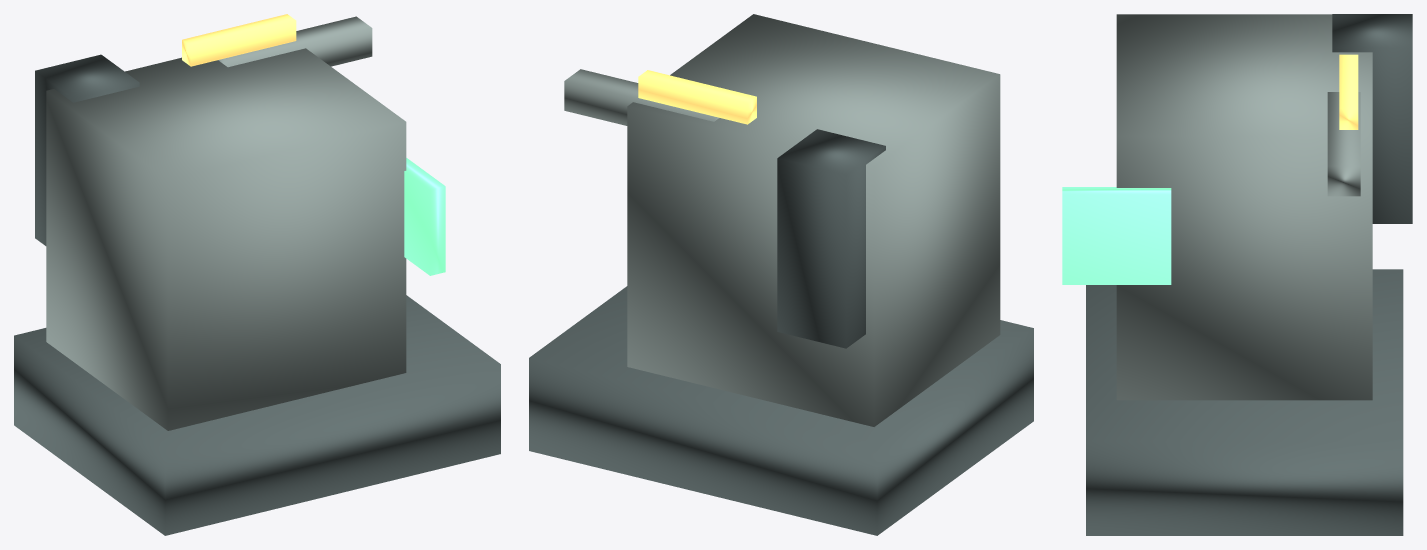
Rendered from spin-habitat-service-bay-lod1.glb.
The picture shows the model from 3 angles, left to right: view 1: azimuth 30°, elevation 25°; view 2: azimuth 150°, elevation 25°; view 3: azimuth 270°, elevation 25°; orthographic projection. The views are drawn at different scales.
Parts seen in each view (by area): view 1: spin-habitat-service-bay-shell, spin-habitat-service-bay-base, spin-habitat-service-bay-canister, spin-habitat-service-bay-screen, spin-habitat-service-bay-utility-arm, spin-habitat-service-bay-marker; view 2: spin-habitat-service-bay-shell, spin-habitat-service-bay-base, spin-habitat-service-bay-canister, spin-habitat-service-bay-marker, spin-habitat-service-bay-utility-arm; view 3: spin-habitat-service-bay-shell, spin-habitat-service-bay-base, spin-habitat-service-bay-screen, spin-habitat-service-bay-canister, spin-habitat-service-bay-utility-arm, spin-habitat-service-bay-marker.
Boxes of the visible parts, x1,y1,x2,y2 form: spin-habitat-service-bay-shell: (46, 48, 406, 430); spin-habitat-service-bay-base: (14, 295, 500, 535); spin-habitat-service-bay-canister: (35, 54, 139, 245); spin-habitat-service-bay-screen: (404, 158, 445, 275); spin-habitat-service-bay-utility-arm: (218, 16, 372, 67); spin-habitat-service-bay-marker: (182, 14, 296, 66); spin-habitat-service-bay-shell: (627, 14, 1000, 426); spin-habitat-service-bay-base: (529, 286, 1033, 535); spin-habitat-service-bay-canister: (777, 129, 885, 348); spin-habitat-service-bay-marker: (638, 70, 756, 124); spin-habitat-service-bay-utility-arm: (564, 69, 719, 125); spin-habitat-service-bay-shell: (1116, 14, 1372, 400); spin-habitat-service-bay-base: (1086, 269, 1403, 535); spin-habitat-service-bay-screen: (1062, 187, 1171, 284); spin-habitat-service-bay-canister: (1332, 14, 1412, 223); spin-habitat-service-bay-utility-arm: (1327, 92, 1360, 196); spin-habitat-service-bay-marker: (1339, 54, 1358, 129).
Bounding box in the file's own units: 1.72 × 1.79 × 1.48.
